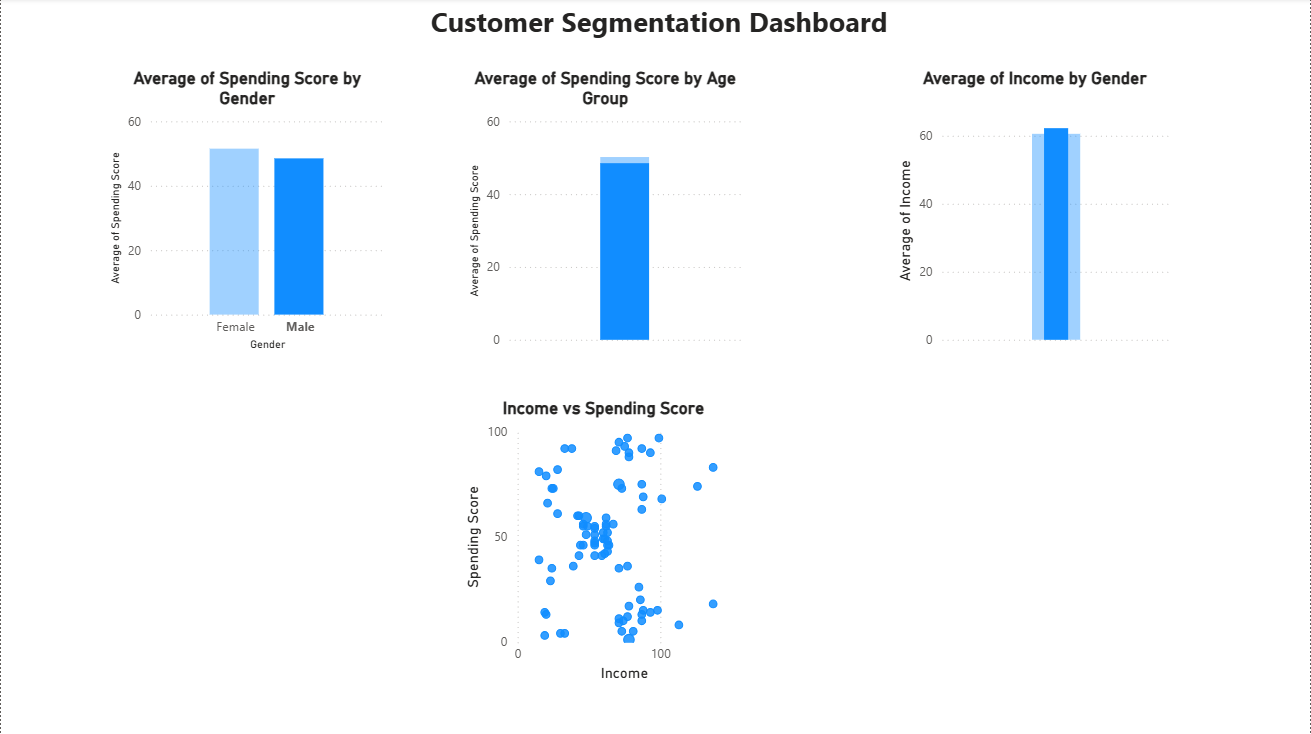

The page's visual inventory and layout, read from the dashboard file:
{"tool":"powerbi","page":{"name":"Page 1","canvas":[1280,720],"ordinal":0},"visuals":[{"type":"clusteredColumnChart","fields":{"Y":["Avg(Sheet1.Spending Score)"],"Category":["Sheet1.Gender"]},"box":[101.5,68.5,278.8,281.3],"z":1},{"type":"clusteredColumnChart","title":"Average of Spending Score by Age Group","fields":{"Y":["Avg(Sheet1.Spending Score)"]},"box":[452.4,68.5,277.6,280],"z":2},{"type":"scatterChart","title":"Income vs Spending Score","fields":{"X":["Sheet1.Income"],"Y":["Sheet1.Spending Score"],"Size":["CountNonNull(Sheet1.CustomerID)"]},"box":[448.8,391.3,281.3,282.5],"z":3},{"type":"textbox","box":[7.3,0,1273,48.9],"z":4},{"type":"columnChart","title":"Average of Income by Gender","fields":{"Y":["Avg(Sheet1.Income)"]},"box":[871.9,68.5,278.8,280],"z":5}]}

Visuals, with their boxes in screenshot pixels (x1, y1, x2, y2), scaled from the page's 1280x720 canvas onto the 1311x734 screenshot:
clusteredColumnChart - Avg(Sheet1.Spending Score) x Sheet1.Gender: l=104, t=70, r=390, b=357
"Average of Spending Score by Age Group" clusteredColumnChart: l=463, t=70, r=748, b=355
"Income vs Spending Score" scatterChart: l=460, t=399, r=748, b=687
textbox: l=7, t=0, r=1310, b=50
"Average of Income by Gender" columnChart: l=893, t=70, r=1179, b=355
